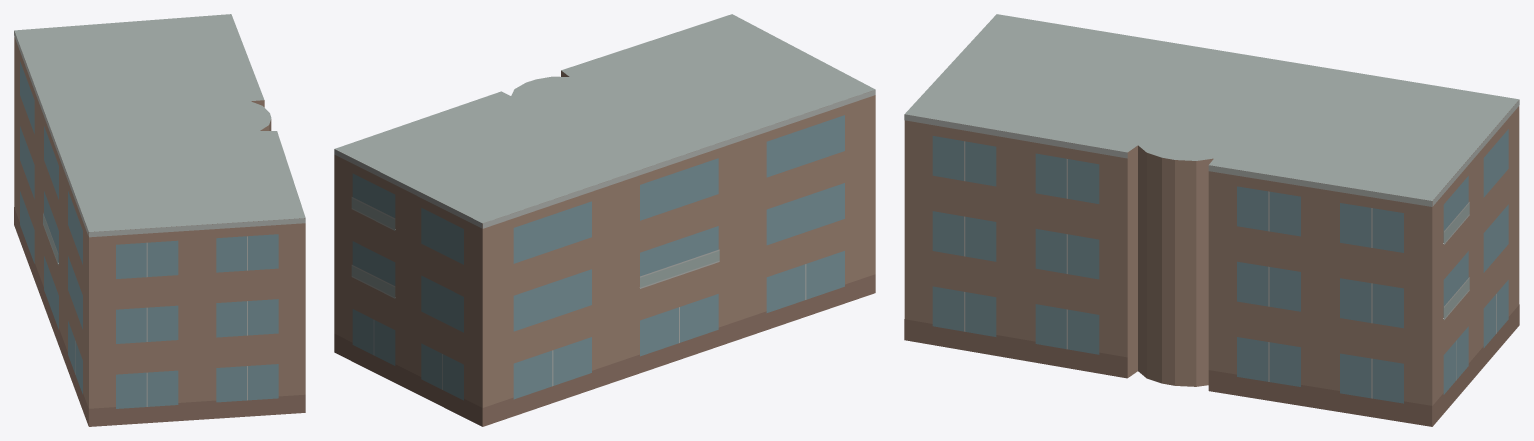
The model's file is survey-upis-32711197.glb.
The picture shows the model from 3 angles, left to right: view 1: azimuth 30°, elevation 25°; view 2: azimuth 150°, elevation 25°; view 3: azimuth 270°, elevation 25°; orthographic projection. The views are drawn at different scales.
Parts seen in each view (by area): view 1: survey-upis-32711197.tmp; view 2: survey-upis-32711197.tmp; view 3: survey-upis-32711197.tmp.
Part boxes in pixels (x1,y1,x2,y2): survey-upis-32711197.tmp: [14, 14, 305, 426]; survey-upis-32711197.tmp: [334, 14, 875, 426]; survey-upis-32711197.tmp: [904, 14, 1519, 426].
Size of the model in its own units: 16.25 by 9.15 by 22.59.
